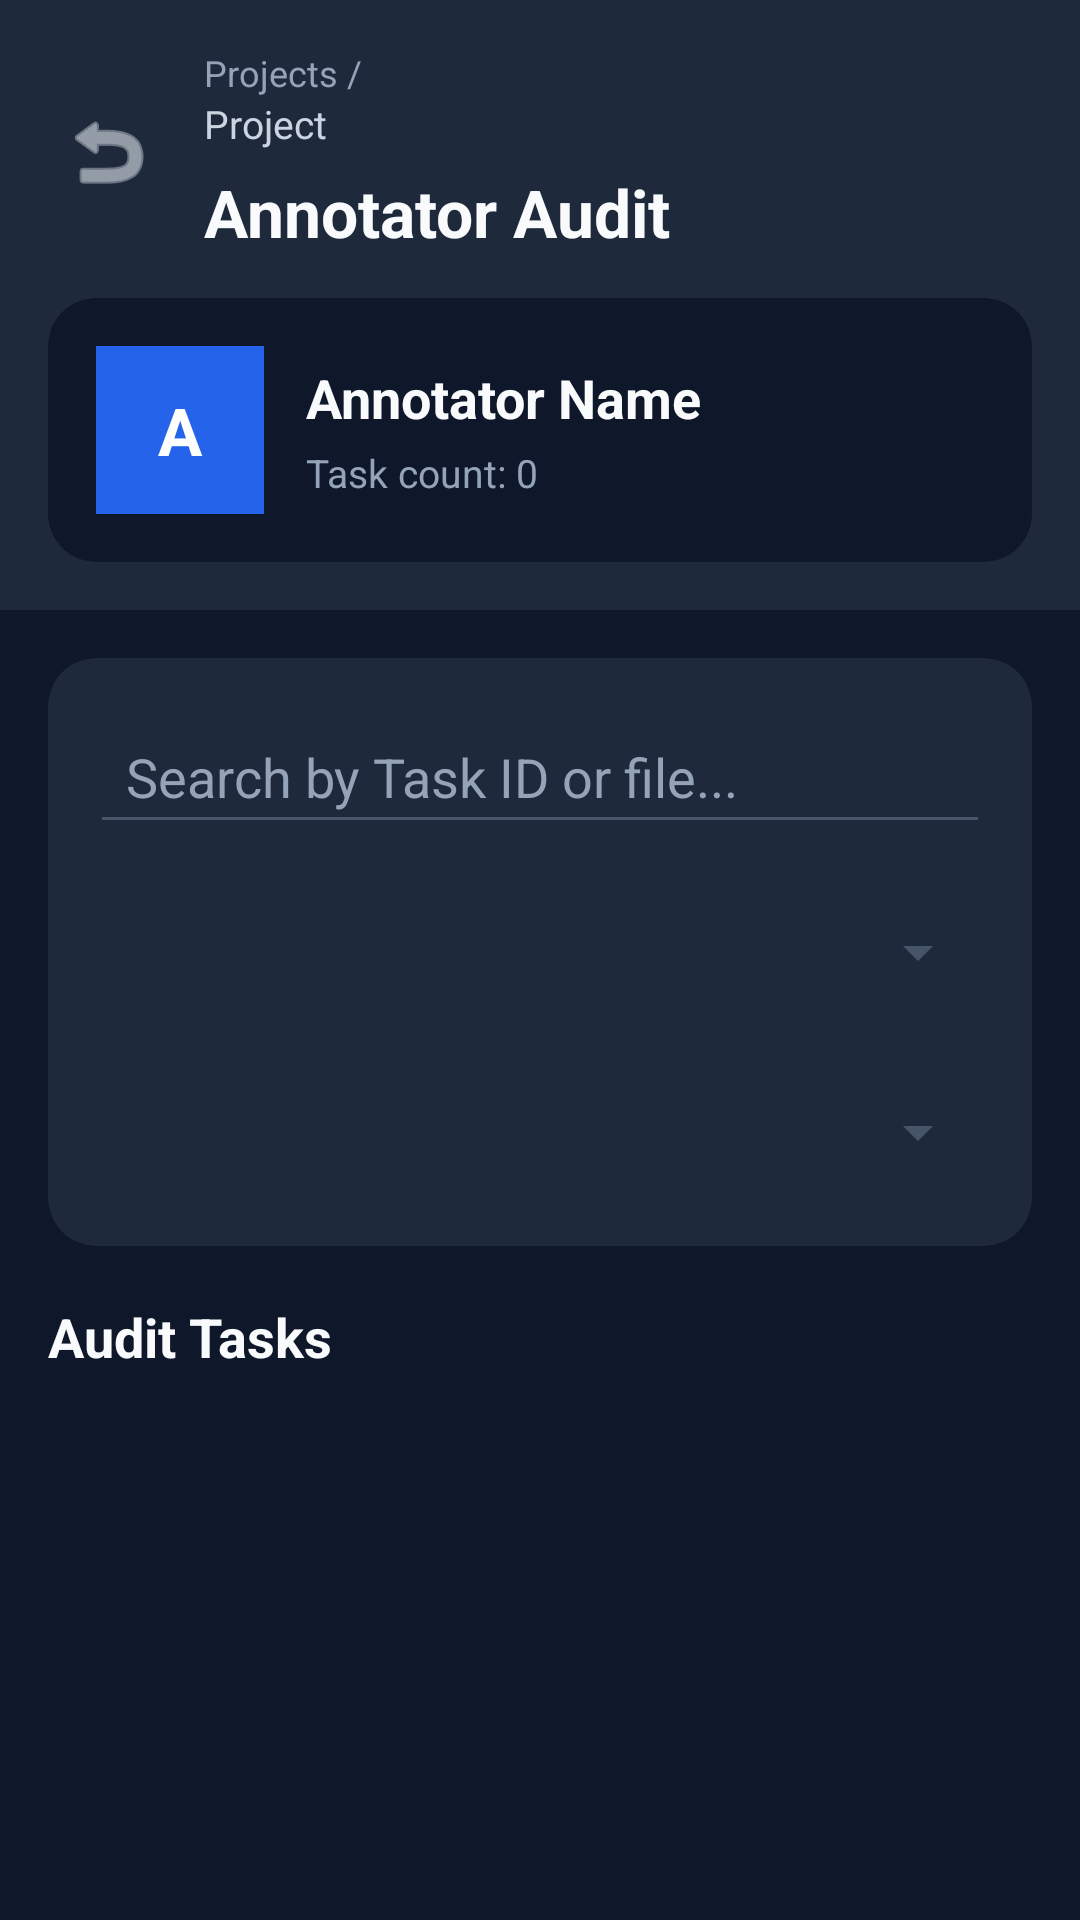

Screen size 1080*1920. Icon name, then its center in pixels as [x,y]:
revert: [109,152]
